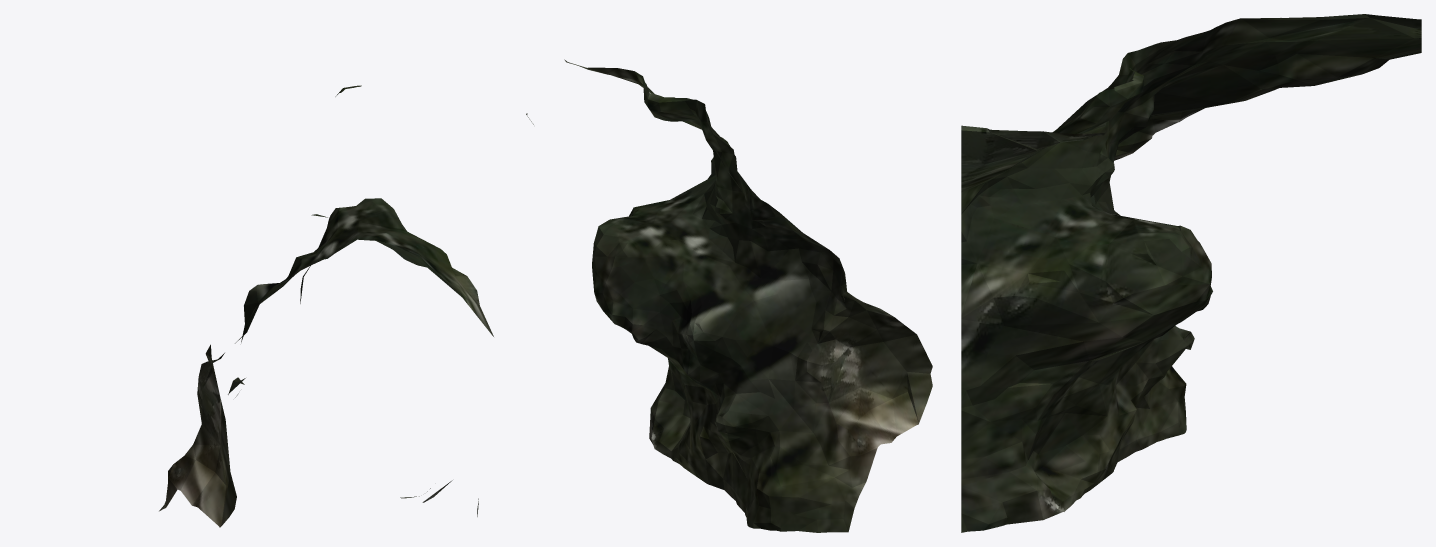
The picture shows the model from 3 angles, left to right: view 1: azimuth 30°, elevation 25°; view 2: azimuth 150°, elevation 25°; view 3: azimuth 270°, elevation 25°; orthographic projection. The views are drawn at different scales.
Size of the model in its own units: 1.38 by 1.67 by 1.67.
Materials: 3 (3 with a texture image).
